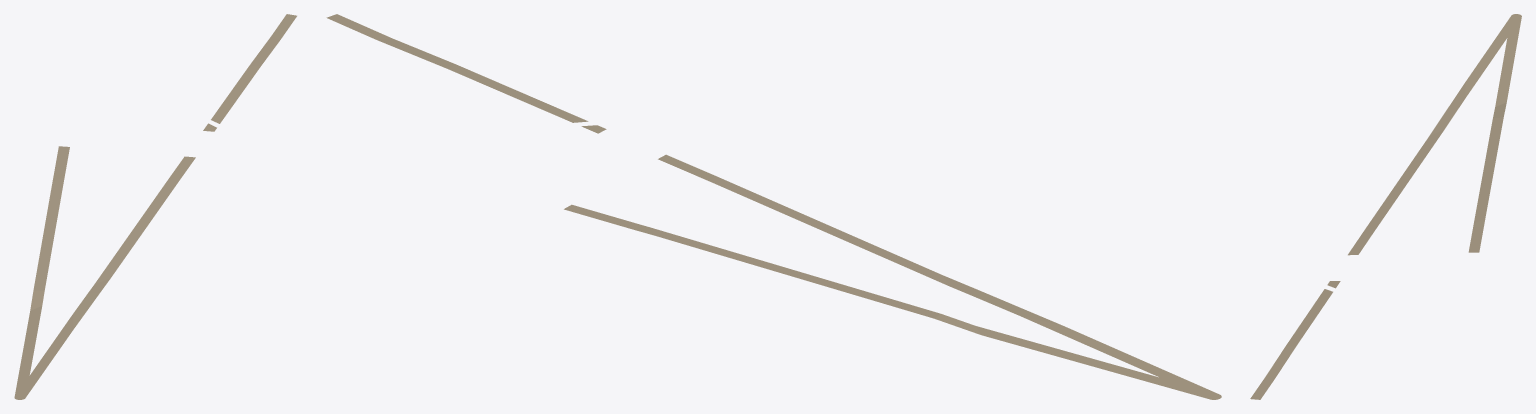
File: farm_7_23_track.glb
3 views of the same model, side by side, from view 1: azimuth 90°, elevation 25°; view 2: azimuth 150°, elevation 25°; view 3: azimuth 270°, elevation 25° (orthographic). The views are drawn at different scales.
Parts seen in each view (by area): view 1: geometry_0; view 2: geometry_0; view 3: geometry_0.
Part boxes in pixels (left/top/right/bottom): geometry_0: left=14, top=14, right=296, bottom=399; geometry_0: left=326, top=14, right=1221, bottom=399; geometry_0: left=1250, top=14, right=1521, bottom=399.
Size of the model in its own units: 273 by 3.52 by 82.77.
